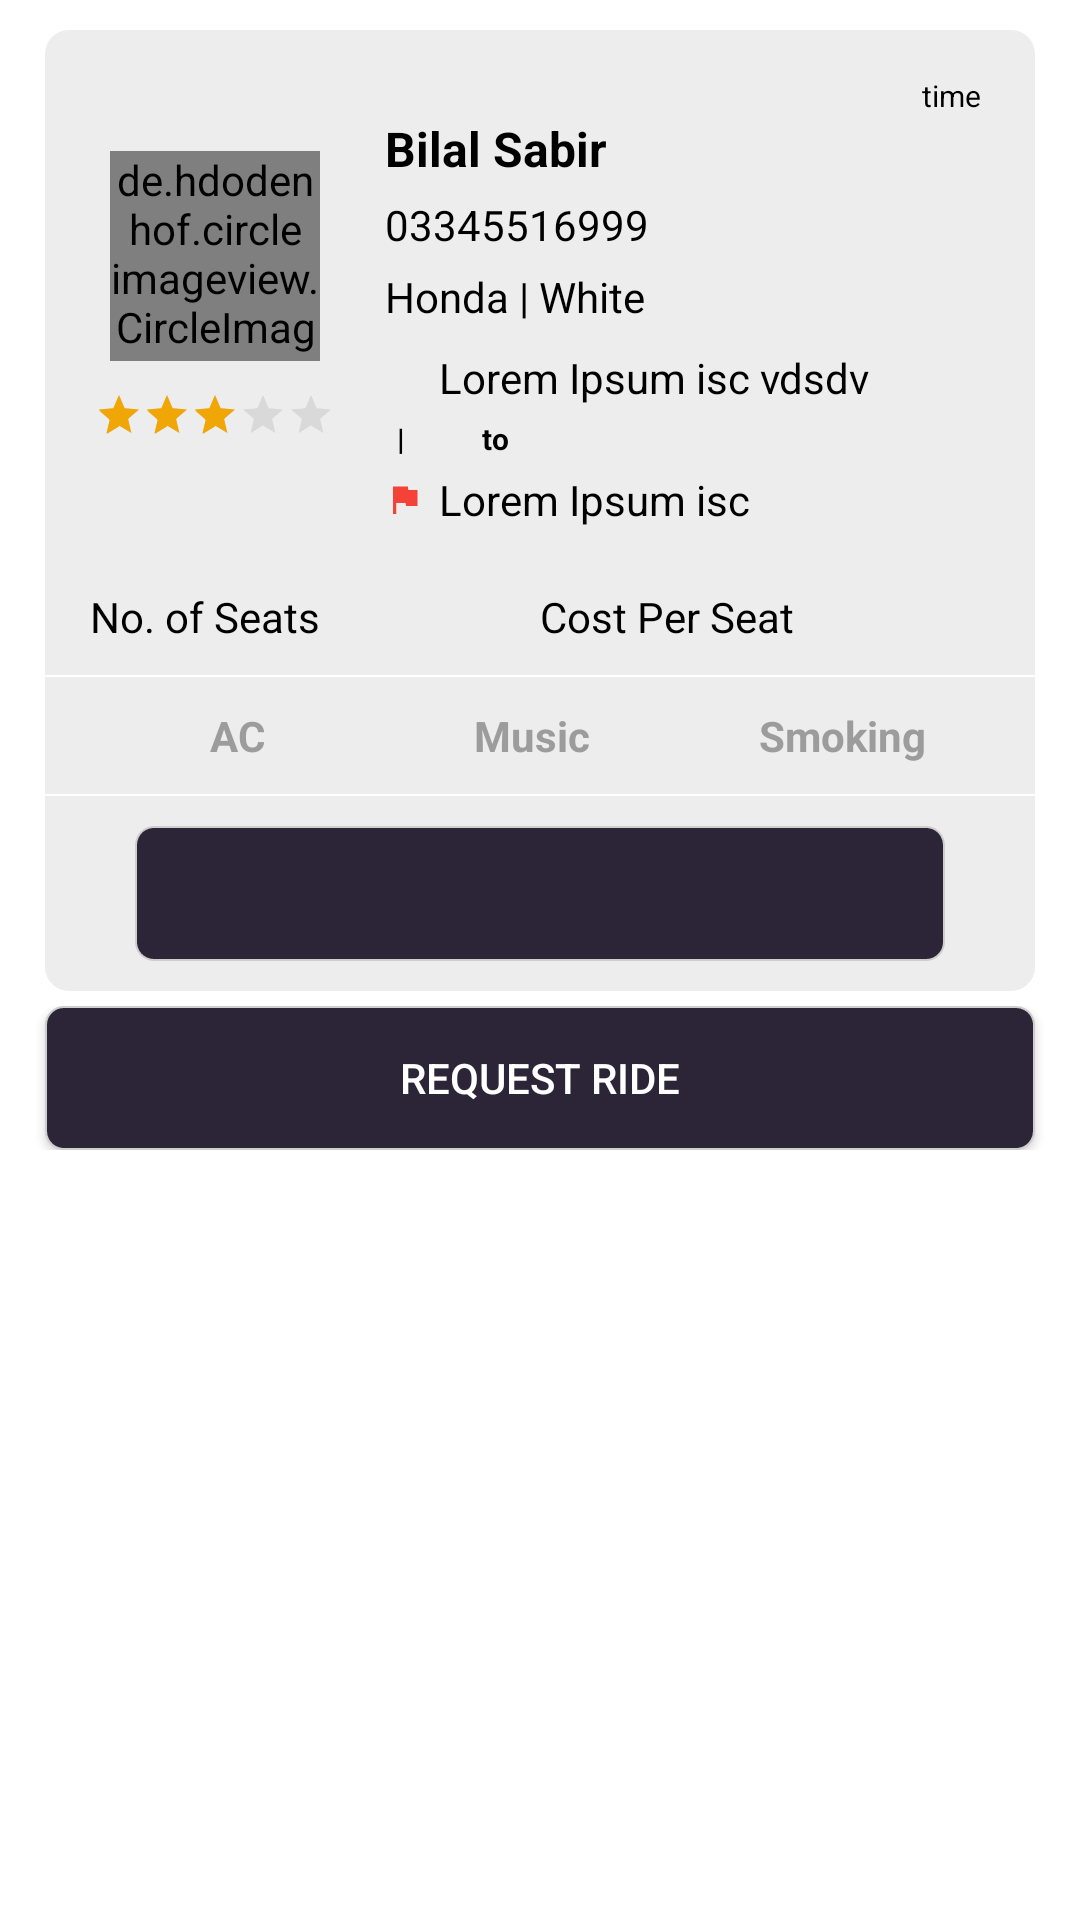

Icons on this 1080×1920 Android screen, each with the point to tap as [x,y]:
flag: [405,500]
